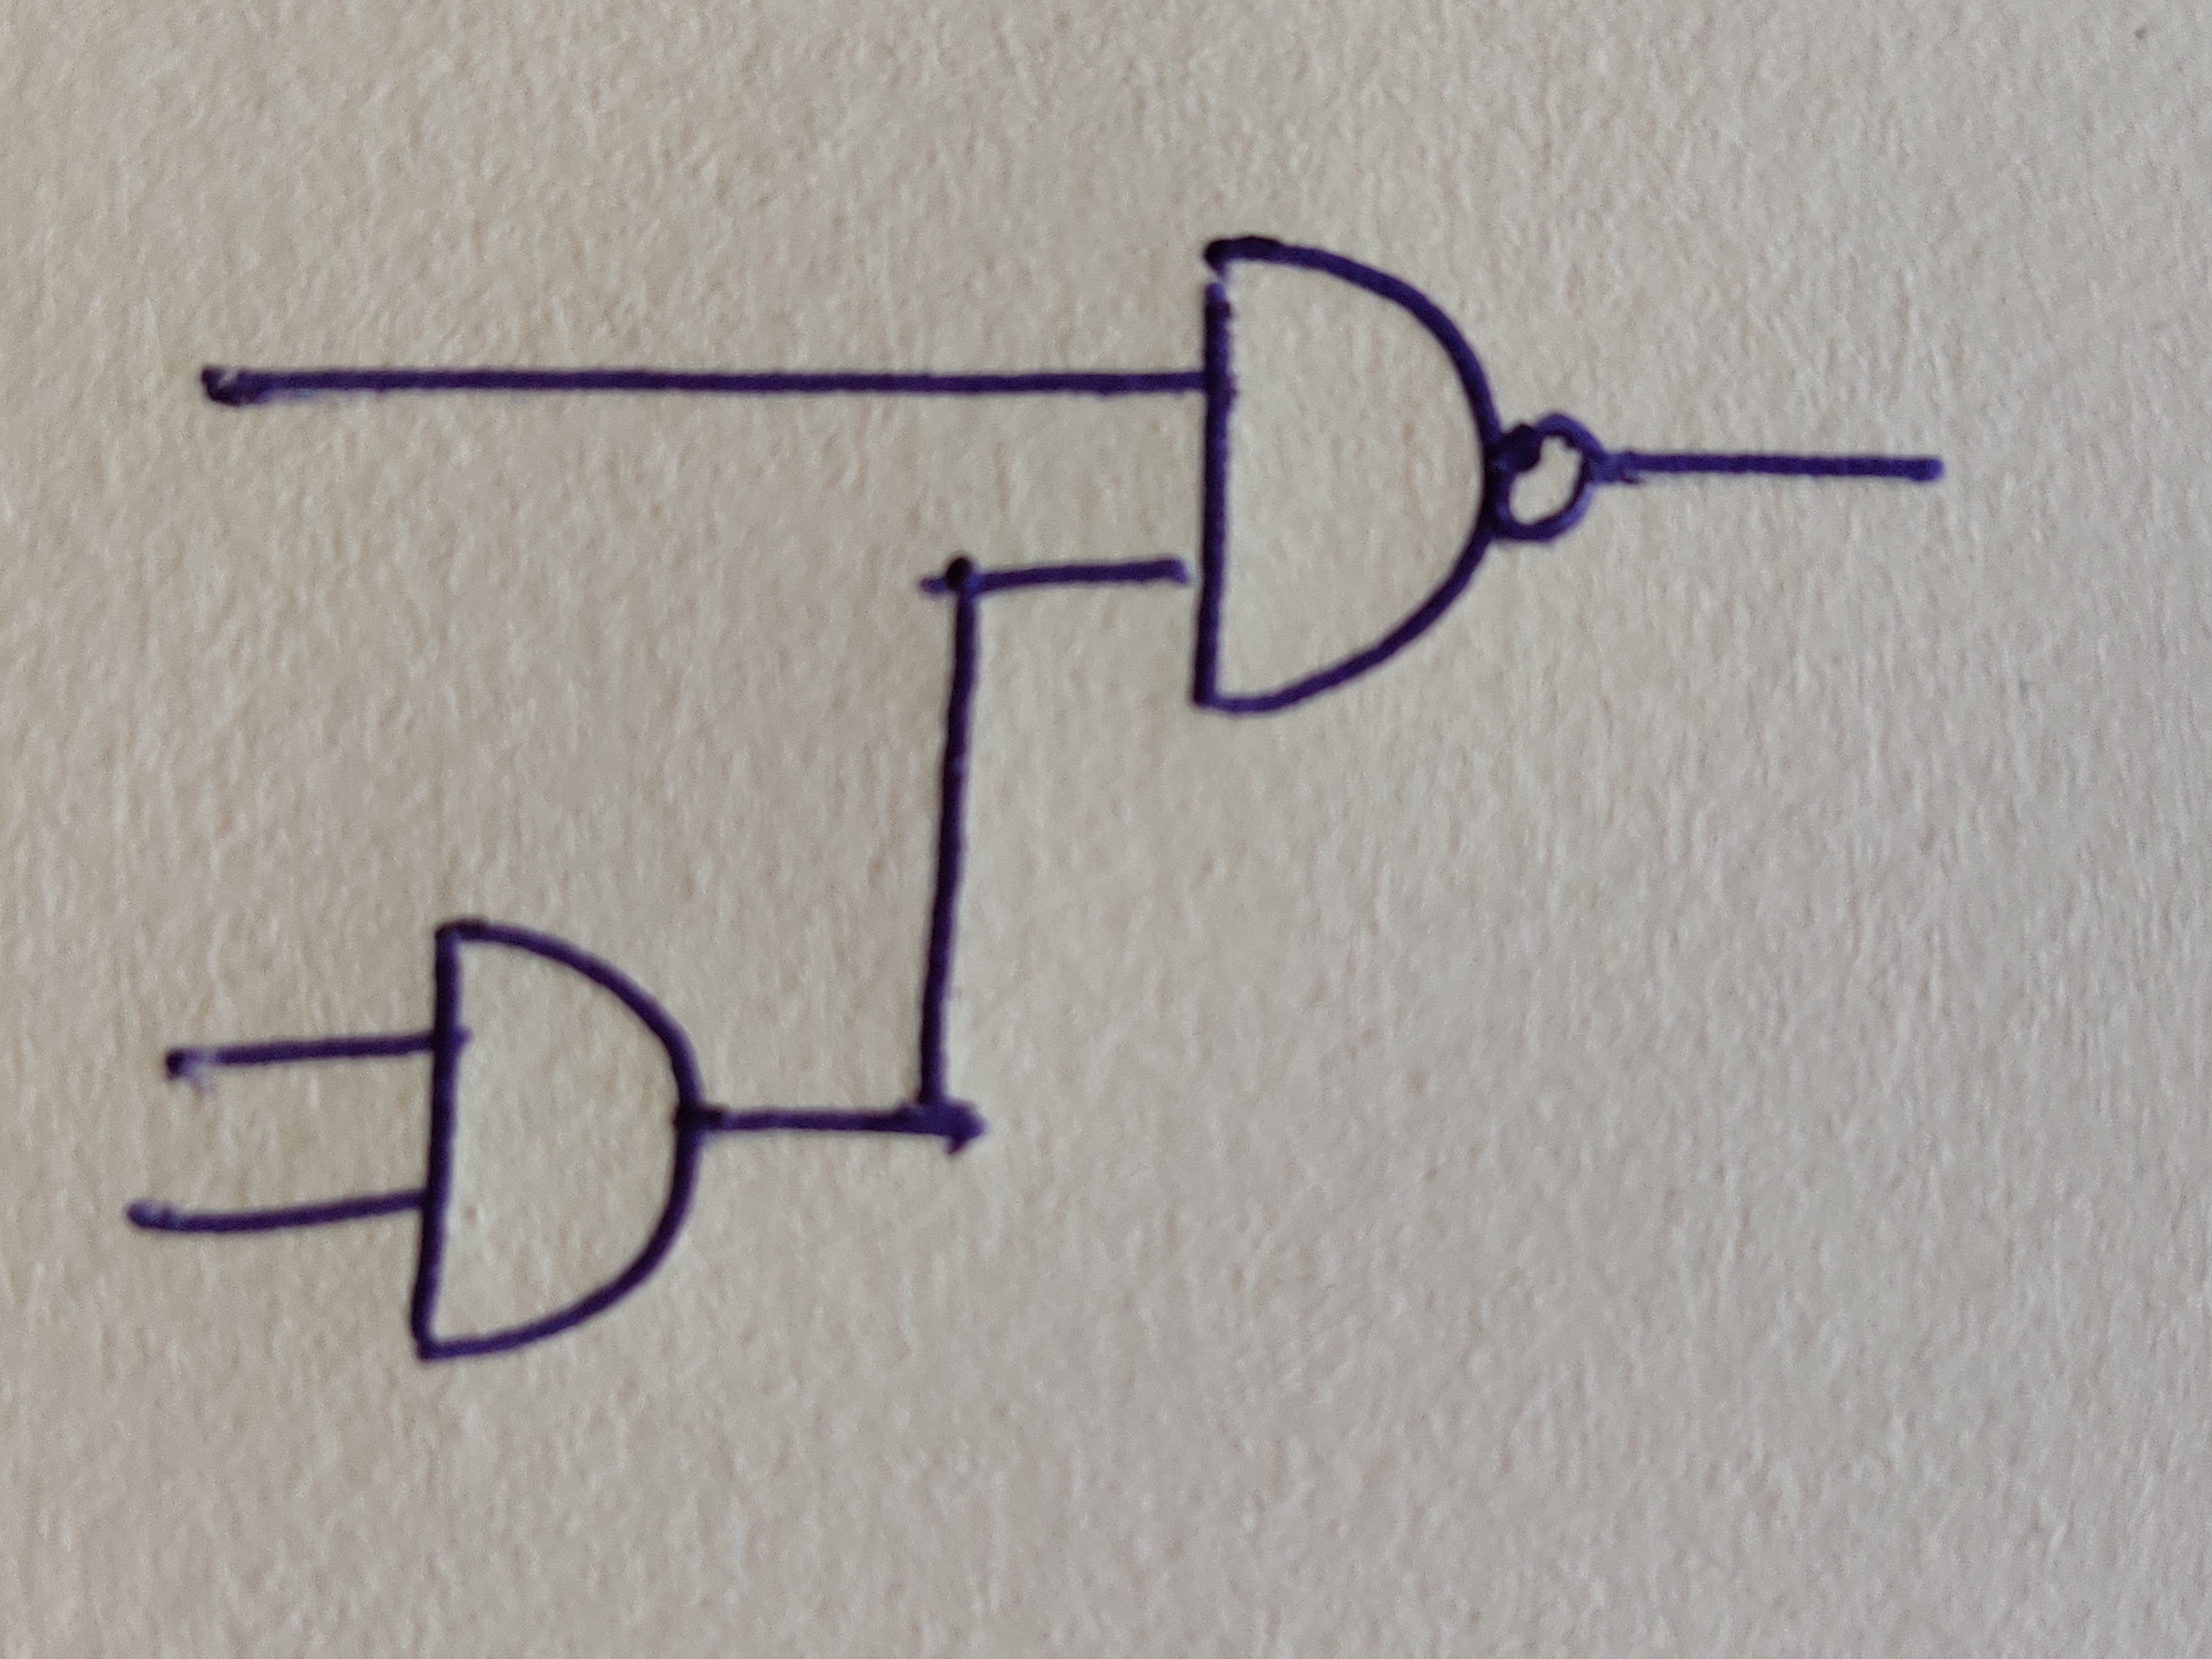and: (1191, 235, 1503, 713), (411, 918, 702, 1359)
not: (1498, 410, 1604, 544)
